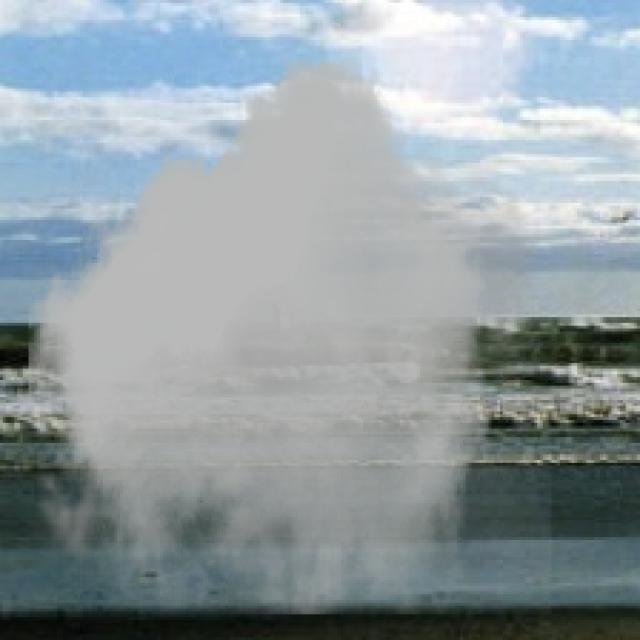smoke: (20, 57, 551, 614)
